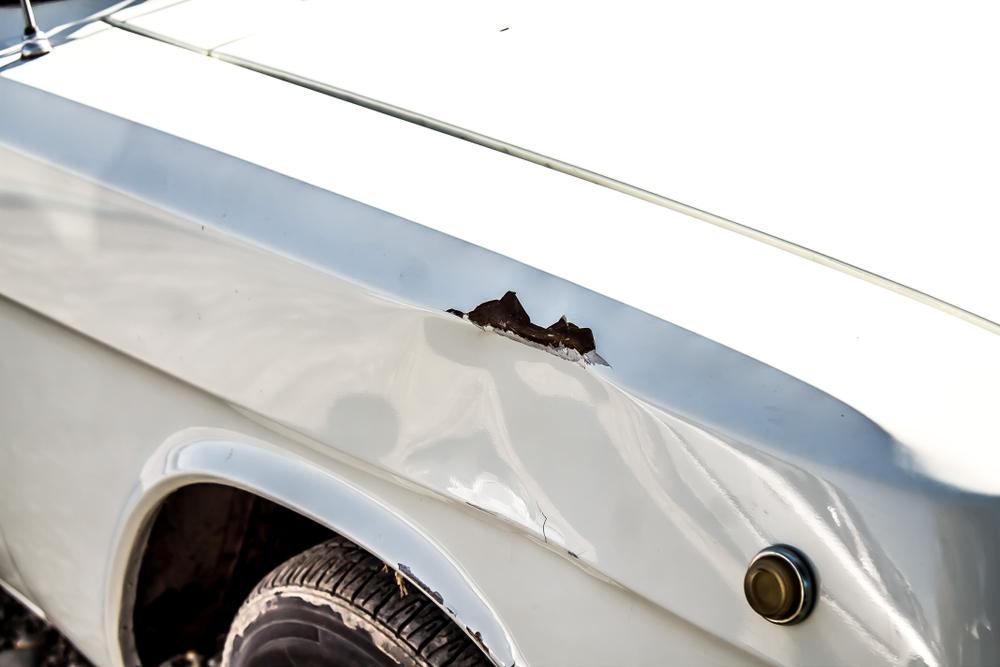dent: (256, 304, 666, 573)
